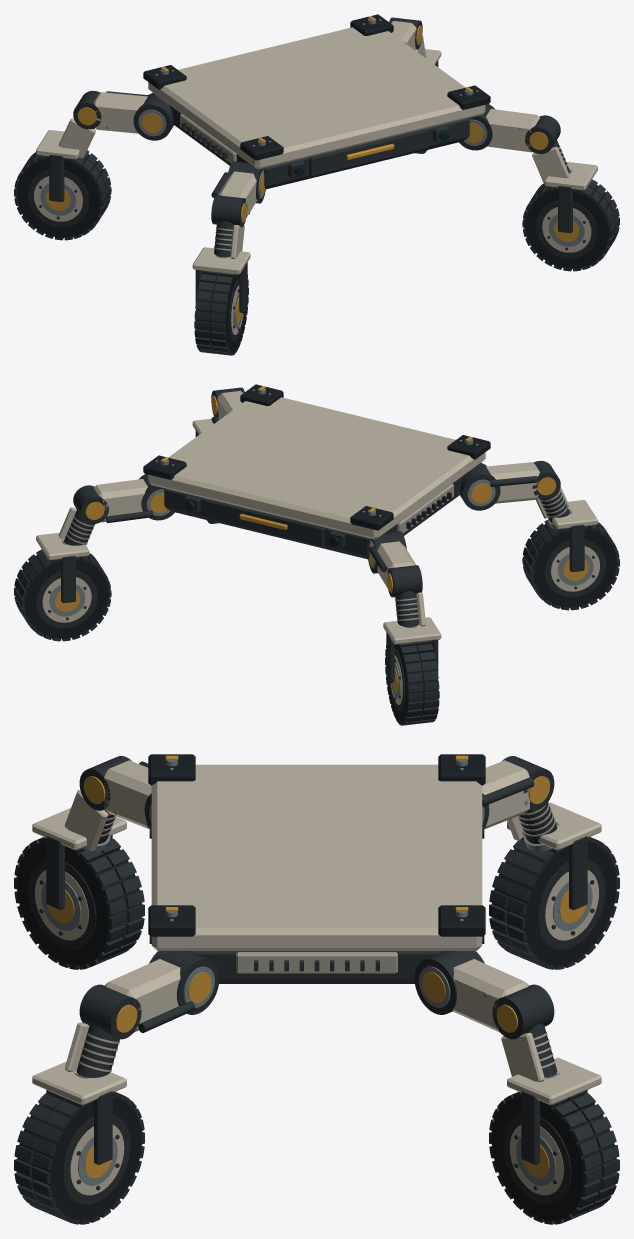
Rendered from stride_d0_lod0.meshopt.glb.
3 views of the same model, one above another, from view 1: azimuth 30°, elevation 25°; view 2: azimuth 150°, elevation 25°; view 3: azimuth 270°, elevation 25° (orthographic). The views are drawn at different scales.
Parts seen in each view (by area): view 1: CHASSIS_SURFACE, WHEEL_FR_SURFACE, WHEEL_RL_SURFACE, WHEEL_FL_SURFACE, LEG_RL_UPPER_SURFACE, LEG_FR_UPPER_SURFACE, LEG_FL_LOWER_SURFACE, LEG_FR_LOWER_SURFACE, LEG_FL_UPPER_SURFACE, LEG_RL_LOWER_SURFACE, LEG_FR_UPRIGHT_SURFACE, LEG_FL_UPRIGHT_SURFACE (+2 smaller); view 2: CHASSIS_SURFACE, WHEEL_FL_SURFACE, WHEEL_RR_SURFACE, WHEEL_RL_SURFACE, LEG_FL_UPPER_SURFACE, LEG_RR_UPPER_SURFACE, LEG_RL_LOWER_SURFACE, LEG_RR_LOWER_SURFACE, LEG_RR_UPRIGHT_SURFACE, LEG_FL_UPRIGHT_SURFACE, LEG_RL_UPRIGHT_SURFACE, LEG_RL_UPPER_SURFACE (+2 smaller); view 3: CHASSIS_SURFACE, WHEEL_FR_SURFACE, WHEEL_RR_SURFACE, WHEEL_FL_SURFACE, WHEEL_RL_SURFACE, LEG_FR_UPPER_SURFACE, LEG_RR_UPPER_SURFACE, LEG_FR_LOWER_SURFACE, LEG_RR_LOWER_SURFACE, LEG_RR_UPRIGHT_SURFACE, LEG_FR_UPRIGHT_SURFACE, LEG_FL_LOWER_SURFACE (+5 smaller).
Part boxes in pixels (<box>): CHASSIS_SURFACE: <box>143,14,490,189</box>; WHEEL_FR_SURFACE: <box>522,179,619,271</box>; WHEEL_RL_SURFACE: <box>14,150,111,240</box>; WHEEL_FL_SURFACE: <box>194,270,248,355</box>; LEG_RL_UPPER_SURFACE: <box>94,91,173,140</box>; LEG_FR_UPPER_SURFACE: <box>459,104,539,152</box>; LEG_FL_LOWER_SURFACE: <box>211,195,247,258</box>; LEG_FR_LOWER_SURFACE: <box>525,115,571,182</box>; LEG_FL_UPPER_SURFACE: <box>211,161,265,218</box>; LEG_RL_LOWER_SURFACE: <box>58,90,101,158</box>; LEG_FR_UPRIGHT_SURFACE: <box>544,162,597,233</box>; LEG_FL_UPRIGHT_SURFACE: <box>192,247,250,312</box>; CHASSIS_SURFACE: <box>143,384,490,559</box>; WHEEL_FL_SURFACE: <box>522,519,619,610</box>; WHEEL_RR_SURFACE: <box>14,549,111,641</box>; WHEEL_RL_SURFACE: <box>385,640,439,725</box>; LEG_FL_UPPER_SURFACE: <box>460,462,539,510</box>; LEG_RR_UPPER_SURFACE: <box>94,474,174,523</box>; LEG_RL_LOWER_SURFACE: <box>386,565,425,628</box>; LEG_RR_LOWER_SURFACE: <box>58,485,108,545</box>; LEG_RR_UPRIGHT_SURFACE: <box>36,532,89,603</box>; LEG_FL_UPRIGHT_SURFACE: <box>552,500,597,571</box>; LEG_RL_UPRIGHT_SURFACE: <box>383,617,441,682</box>; LEG_RL_UPPER_SURFACE: <box>368,531,415,588</box>; CHASSIS_SURFACE: <box>148,754,485,983</box>; WHEEL_FR_SURFACE: <box>14,1091,144,1224</box>; WHEEL_RR_SURFACE: <box>489,1091,619,1224</box>; WHEEL_FL_SURFACE: <box>14,836,144,969</box>; WHEEL_RL_SURFACE: <box>489,837,619,969</box>; LEG_FR_UPPER_SURFACE: <box>104,951,219,1032</box>; LEG_RR_UPPER_SURFACE: <box>414,951,529,1032</box>; LEG_FR_LOWER_SURFACE: <box>64,984,141,1078</box>; LEG_RR_LOWER_SURFACE: <box>492,984,559,1082</box>; LEG_RR_UPRIGHT_SURFACE: <box>507,1057,601,1164</box>; LEG_FR_UPRIGHT_SURFACE: <box>32,1061,126,1164</box>; LEG_FL_LOWER_SURFACE: <box>64,756,131,851</box>.
Size of the model in its own units: 2.18 by 0.833 by 1.8.
